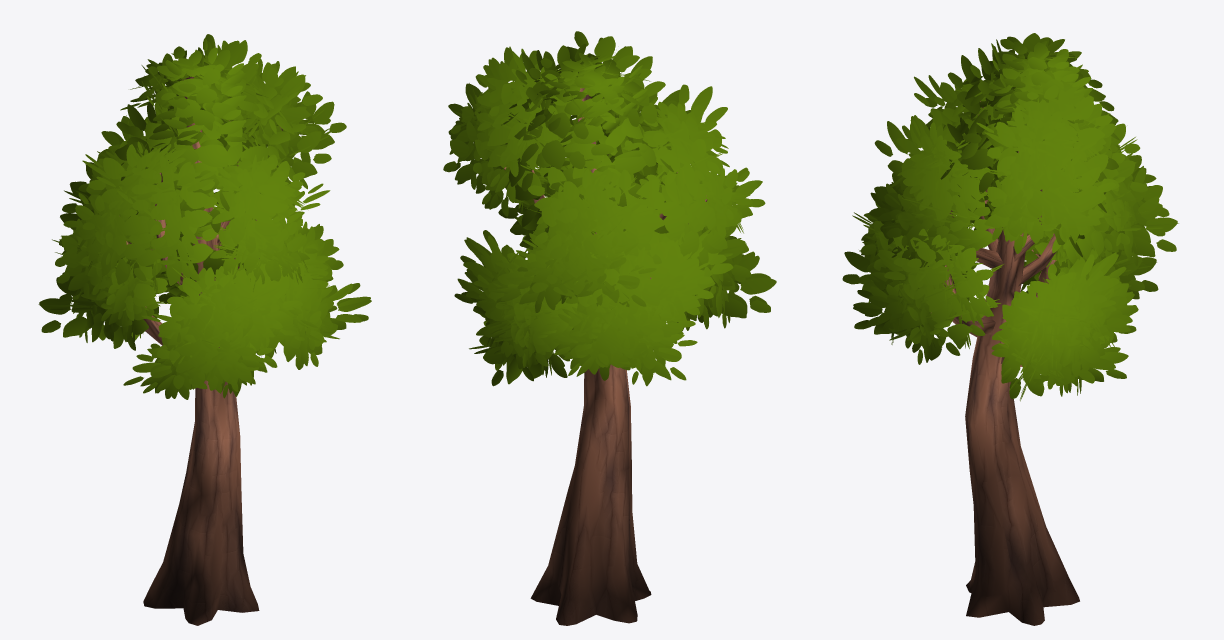
File: CommonTree_1.gltf
3 renders of one model, left to right at view 1: azimuth 30°, elevation 25°; view 2: azimuth 150°, elevation 25°; view 3: azimuth 270°, elevation 25°, orthographic. The views are drawn at different scales.
Visible parts, largest first — view 1: CommonTree_1_Foliage, CommonTree_1_Bark; view 2: CommonTree_1_Foliage, CommonTree_1_Bark; view 3: CommonTree_1_Foliage, CommonTree_1_Bark.
Part boxes in pixels (left/top/right/bottom): CommonTree_1_Foliage: left=38, top=34, right=371, bottom=399; CommonTree_1_Bark: left=126, top=76, right=282, bottom=625; CommonTree_1_Foliage: left=443, top=31, right=776, bottom=386; CommonTree_1_Bark: left=504, top=88, right=707, bottom=625; CommonTree_1_Foliage: left=842, top=33, right=1178, bottom=401; CommonTree_1_Bark: left=931, top=101, right=1079, bottom=625.
Bounding box in the file's own units: 14.59 × 24.81 × 15.37.
Materials: 2 (2 with a texture image).
